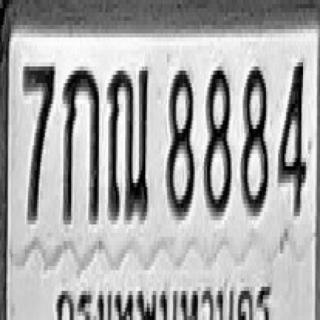A01: (62, 64, 99, 222)
A19: (107, 62, 148, 220)
N04: (278, 60, 305, 214)
N07: (23, 62, 54, 220)
N08: (166, 66, 194, 216), (203, 65, 231, 214), (240, 65, 268, 214)
